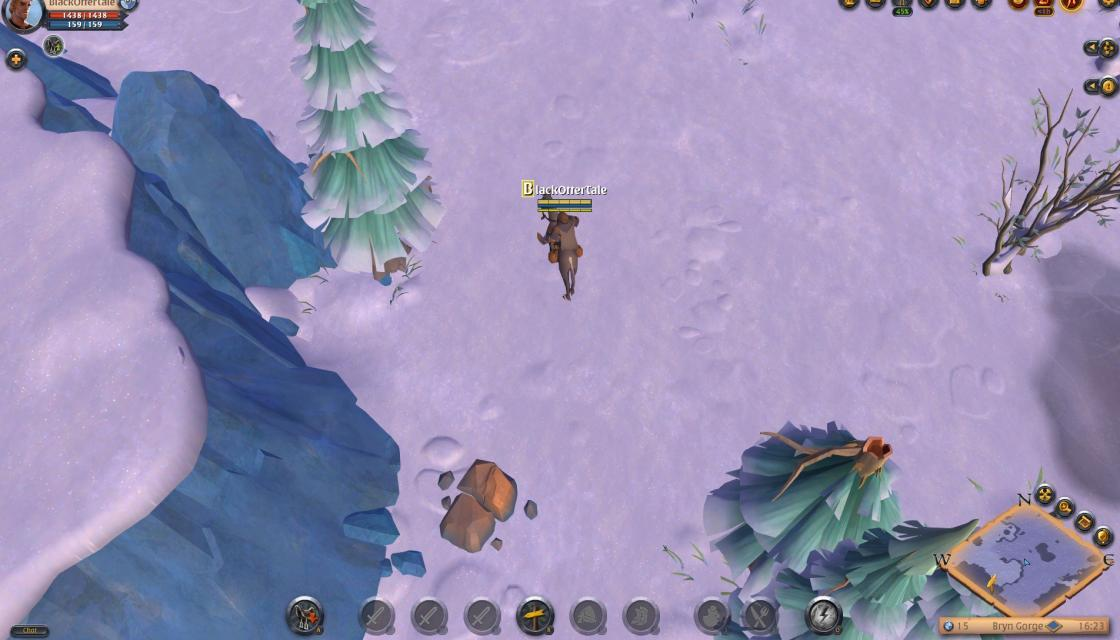limestone: (436, 457, 522, 556)
